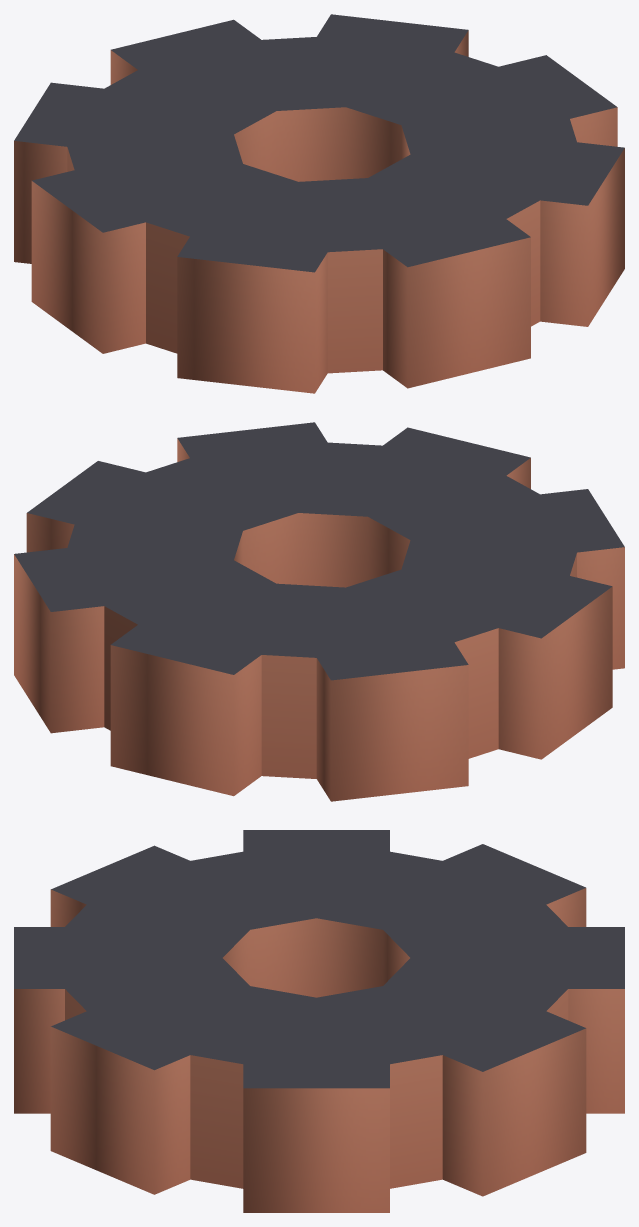
The model's file is cog-c.obj.
3 renders of one model, top to bottom at view 1: azimuth 30°, elevation 25°; view 2: azimuth 150°, elevation 25°; view 3: azimuth 270°, elevation 25°, orthographic. The views are drawn at different scales.
Visible parts, largest first — view 1: cog-c; view 2: cog-c; view 3: cog-c.
Part boxes in pixels (<box>): cog-c: <box>14,14,624,393</box>; cog-c: <box>14,422,624,801</box>; cog-c: <box>14,830,624,1212</box>.
Size of the model in its own units: 1 by 0.225 by 1.
